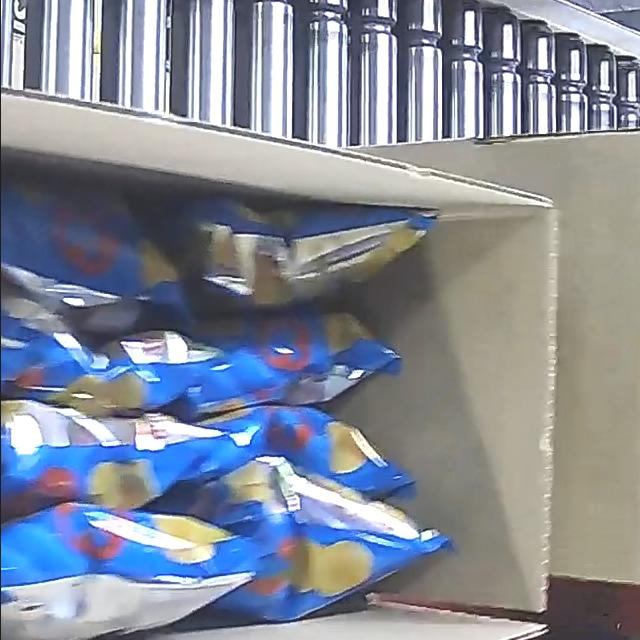paprika: (0, 130, 457, 640)
